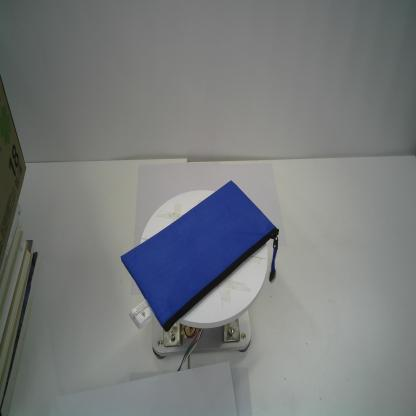Stationery: (121, 180, 279, 332)
